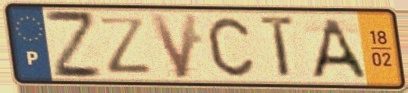A: (309, 16, 370, 81)
C: (205, 14, 257, 79)
T: (258, 13, 298, 82)
V: (147, 11, 201, 81)
Z: (41, 8, 107, 81), (96, 15, 155, 75)
